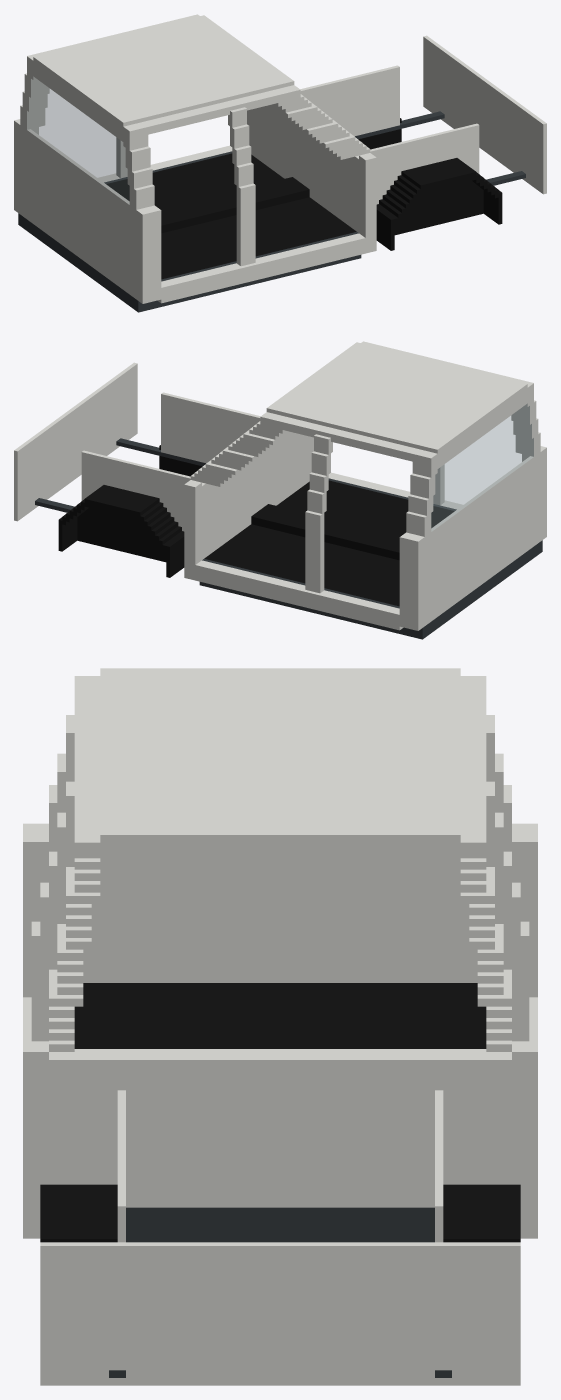
Rendered from crew_pickup_shell.glb.
The picture shows the model from 3 angles, top to bottom: view 1: azimuth 30°, elevation 25°; view 2: azimuth 150°, elevation 25°; view 3: azimuth 270°, elevation 25°; orthographic projection. The views are drawn at different scales.
Parts seen in each view (by area): view 1: body:compound; view 2: body:compound; view 3: body:compound.
Boxes of the visible parts, left/top/right/bottom form: body:compound: left=14, top=14, right=546, bottom=312; body:compound: left=14, top=341, right=546, bottom=639; body:compound: left=23, top=668, right=537, bottom=1385.
Size of the model in its own units: 3.44 by 1.44 by 1.88.
